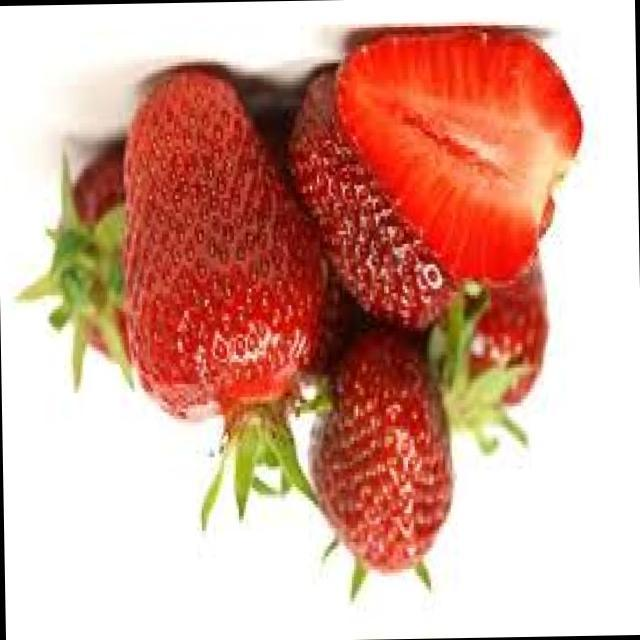Strawberry: (106, 17, 574, 580)
